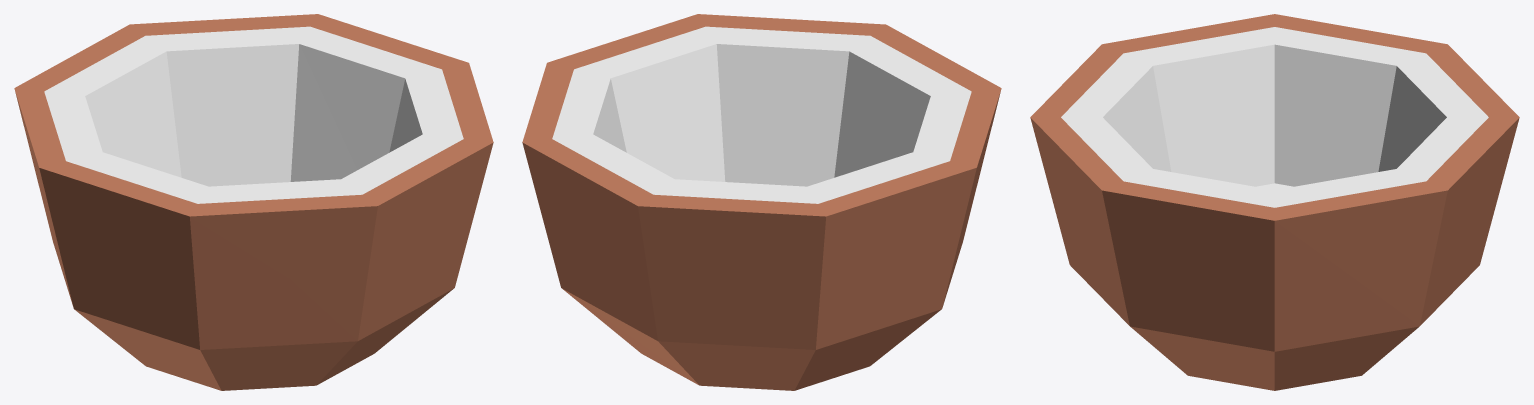
Rendered from coconutHalf.glb.
3 renders of one model, left to right at view 1: azimuth 30°, elevation 25°; view 2: azimuth 150°, elevation 25°; view 3: azimuth 270°, elevation 25°, orthographic.
Size of the model in its own units: 0.2484 by 0.1241 by 0.2484.
